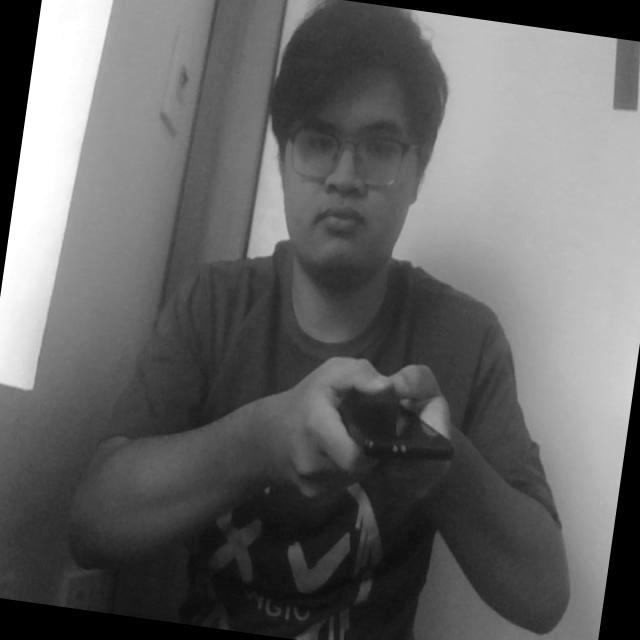phone: (316, 356, 472, 502)
